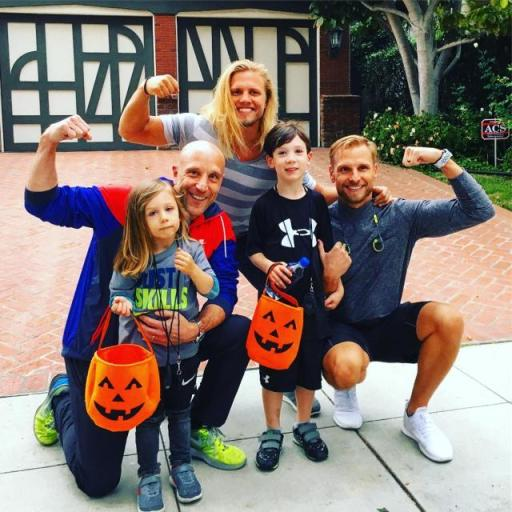Under Armour: (277, 215, 318, 250)
